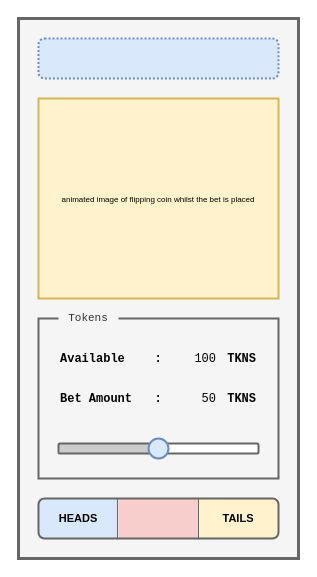
The diagram is 317 pixels wide and 577 high, and some of its shapes have lost their labels. The shapes that lost their labels are listed below. From the top down, each one's centre as x and y in pixels, then its label:
[158,58]: Place Bet
[158,518]: RANDOM
